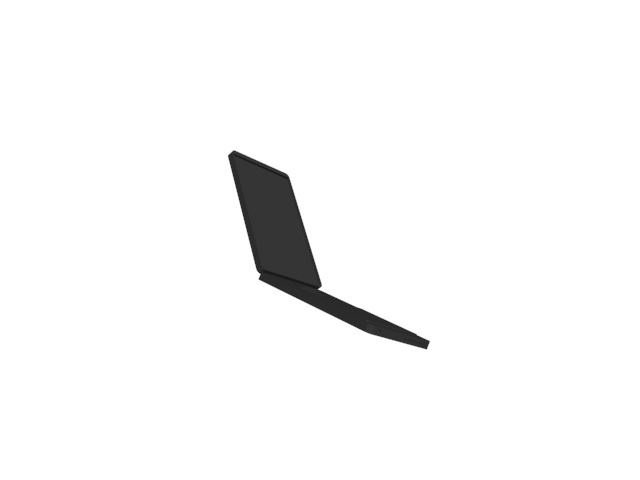mobile_phone: (225, 145, 432, 352)
